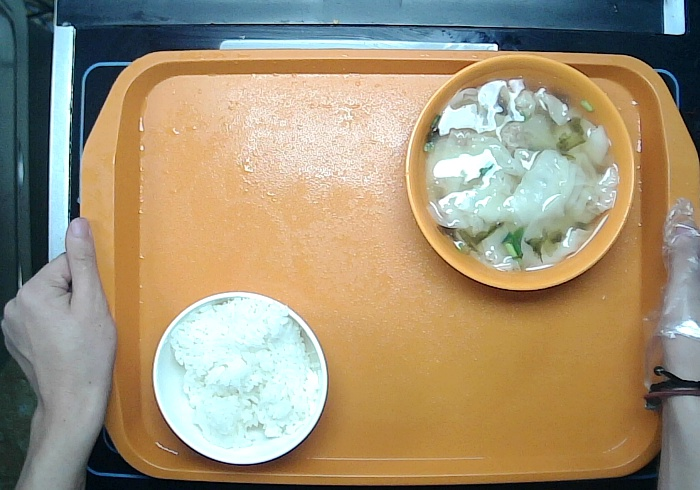NLDX-Fan_Wan: (146, 286, 335, 472)
NLDX-Hun_Tun_Wan: (394, 48, 639, 305)
